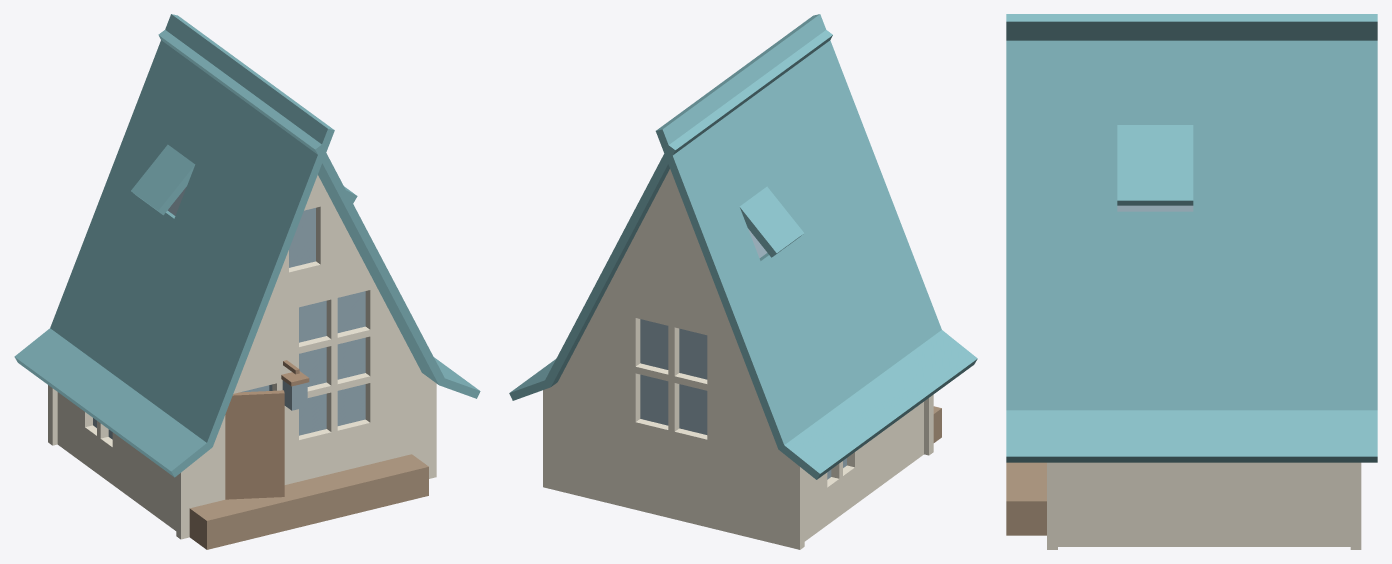
Rendered from folded_aframe.glb.
3 renders of one model, left to right at view 1: azimuth 30°, elevation 25°; view 2: azimuth 150°, elevation 25°; view 3: azimuth 270°, elevation 25°, orthographic. The views are drawn at different scales.
Visible parts, largest first — view 1: folded_aframe; view 2: folded_aframe; view 3: folded_aframe.
Part boxes in pixels (x1,y1,x2,y2): folded_aframe: [14, 14, 480, 549]; folded_aframe: [509, 14, 977, 549]; folded_aframe: [1006, 14, 1377, 549].
Bounding box in the file's own units: 1.56 × 1.89 × 1.37.
